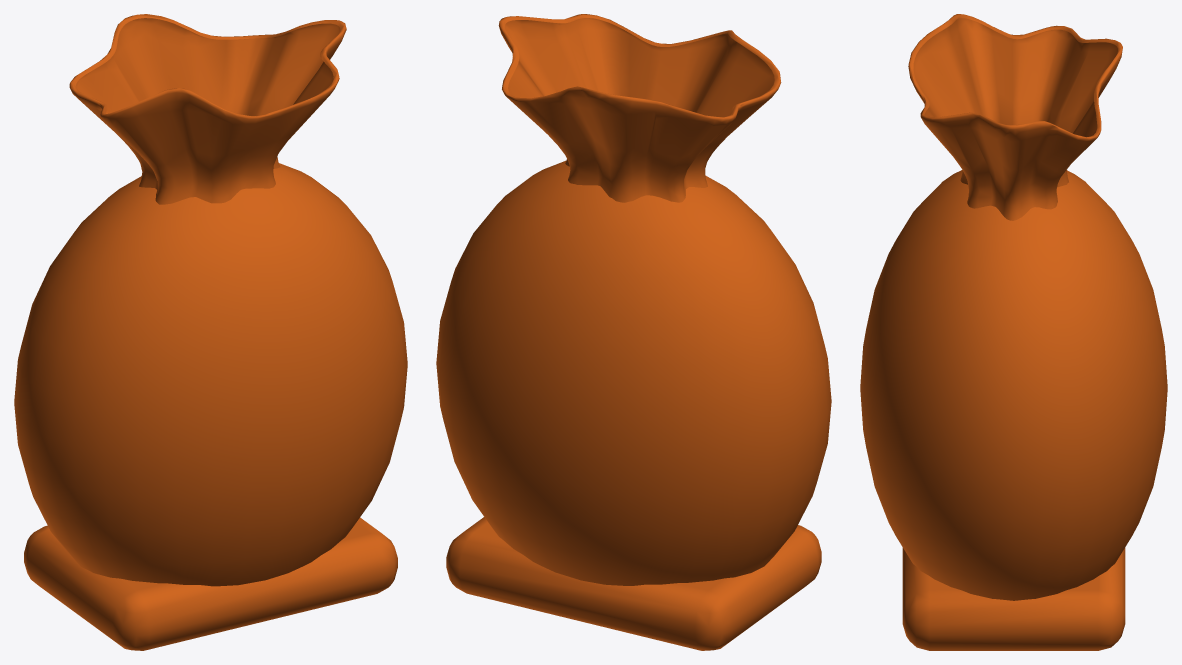
The model's file is loot-bag-cloth.obj.
The picture shows the model from 3 angles, left to right: view 1: azimuth 30°, elevation 25°; view 2: azimuth 150°, elevation 25°; view 3: azimuth 270°, elevation 25°; orthographic projection.
Visible parts, largest first — view 1: Cloth; view 2: Cloth; view 3: Cloth.
Part boxes in pixels (x1,y1,x2,y2): Cloth: [14, 14, 407, 650]; Cloth: [436, 14, 831, 650]; Cloth: [860, 14, 1167, 650].
Bounding box in the file's own units: 2.05 × 3.01 × 1.53.
